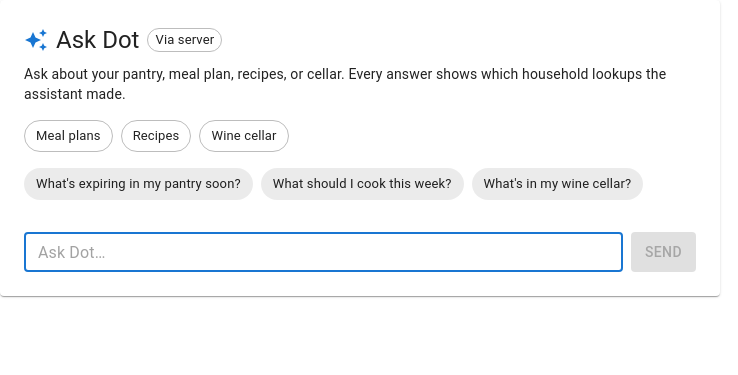
Test: assistant page › sends a question and renders the answer with its tool trace
Check: the heading "Ask Dot" is shown, box [56, 24, 140, 56]
Type "what is expiring?" into the field with placeholder "Ask Dot…".
click(324, 252); type("what is expiring?")  # box [24, 232, 623, 272]
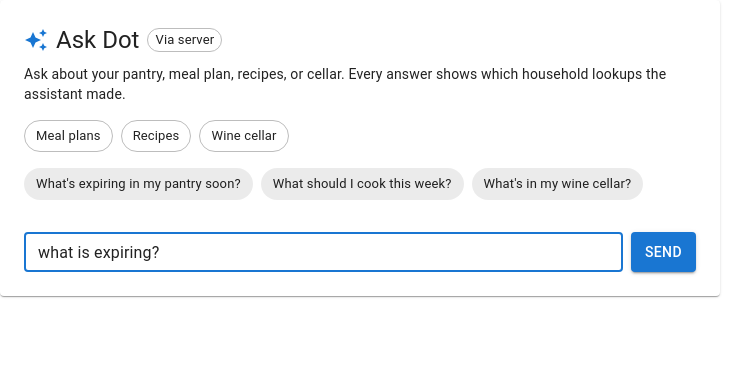
Click the button "Send".
click(664, 252)  # box [631, 232, 696, 272]
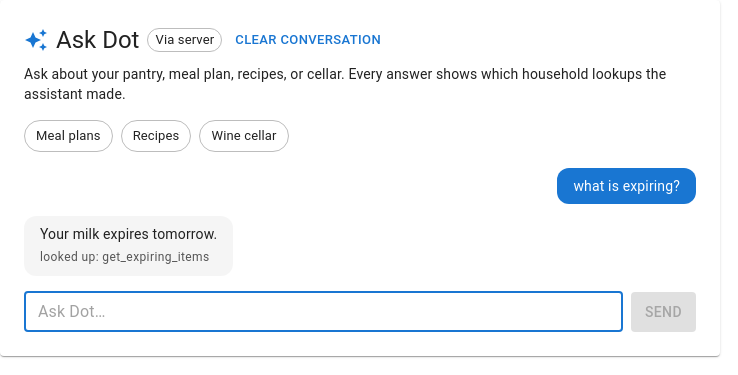
Check: the text "Your milk expires tomorrow." is shown, box [40, 224, 217, 244]
Check: the text "what is expiring?" is shown, box [574, 176, 680, 196]
Check: the text "looked up: get_expiring_items" is shown, box [40, 248, 217, 268]
